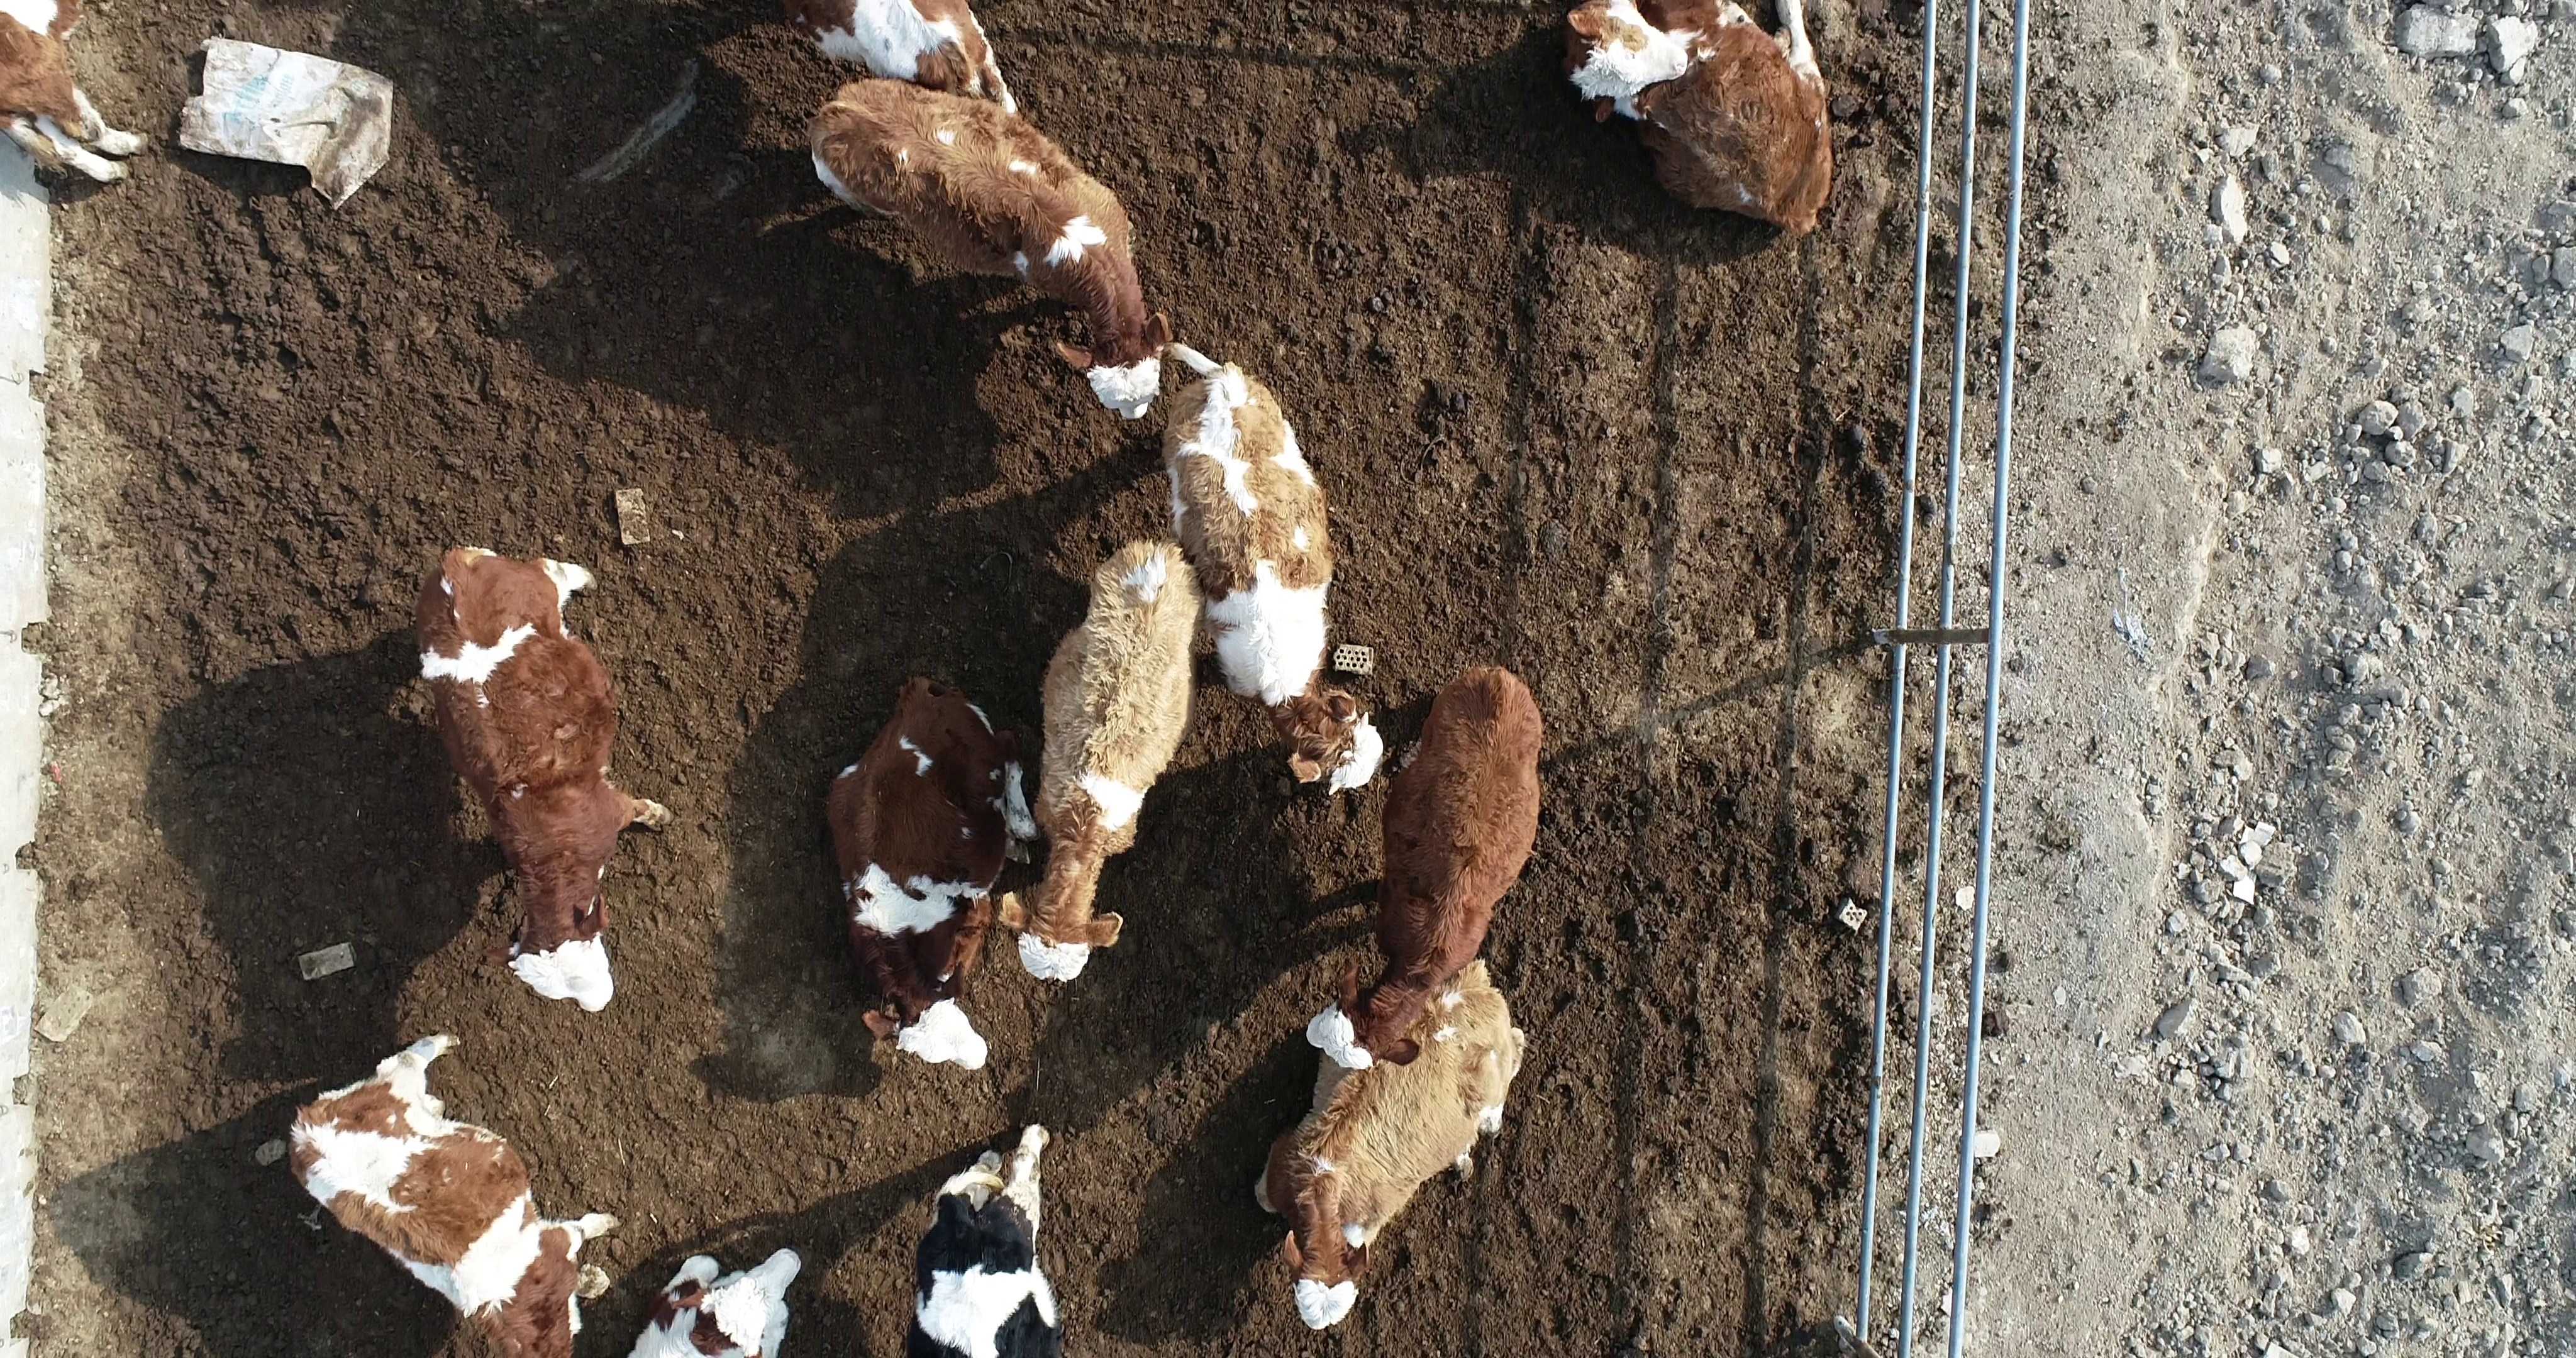cattle: (404, 537, 678, 1019), (802, 75, 1179, 426), (1157, 336, 1390, 801), (1297, 659, 1547, 1075), (993, 535, 1205, 985), (821, 670, 1043, 1079)
